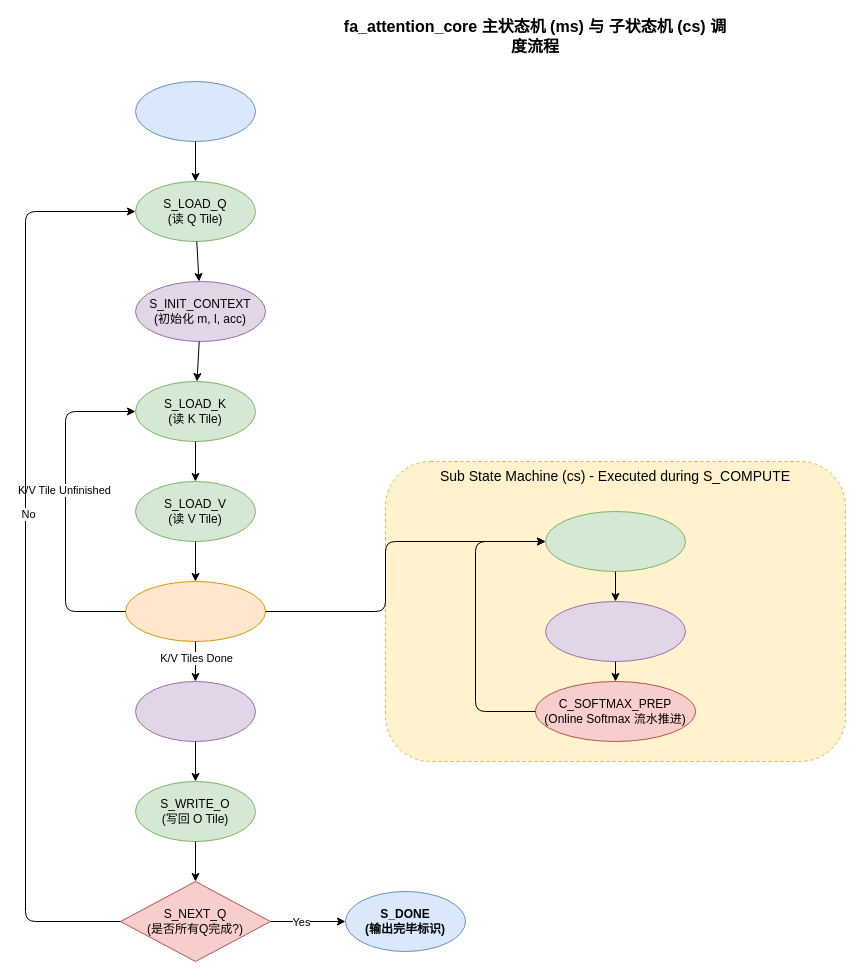
Some shapes in this 863 by 979 pixel diagram are drawn without their labels. The shapes that lost their labels are listed below. From the top down, each one's centre as x and y in pixels, then its label:
At pixel 195 111: "S_IDLE (等待 i_start)".
At pixel 615 541: "C_DP_RUN (执行 QK 前向计算)".
At pixel 195 611: "S_COMPUTE (进入子状态机计算)".
At pixel 615 631: "C_SCORE_DONE (局部和等待与归并)".
At pixel 195 711: "S_NORMALIZE (倒数与归一化)".
